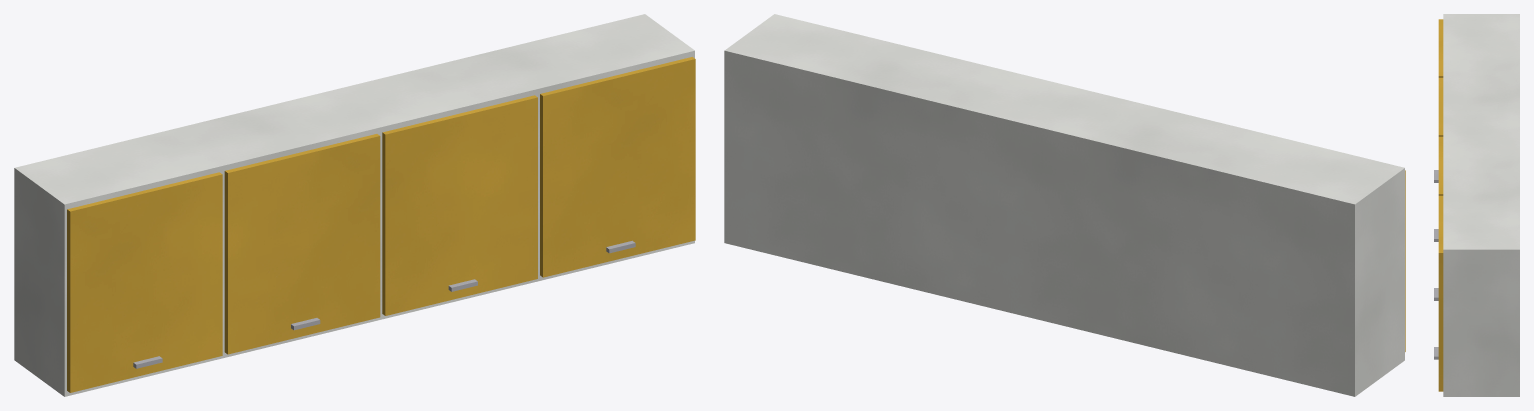
3 renders of one model, left to right at view 1: azimuth 30°, elevation 25°; view 2: azimuth 150°, elevation 25°; view 3: azimuth 270°, elevation 25°, orthographic. The views are drawn at different scales.
Parts seen in each view (by area): view 1: WallCabinet_Game; view 2: WallCabinet_Game; view 3: WallCabinet_Game.
Boxes of the visible parts, box(x1,y1,x2,y2) form: WallCabinet_Game: box(14, 14, 695, 396); WallCabinet_Game: box(724, 14, 1405, 396); WallCabinet_Game: box(1434, 14, 1519, 396).
Bounding box in the file's own units: 2.4 × 0.7 × 0.37.
3 materials, 3 textured.
